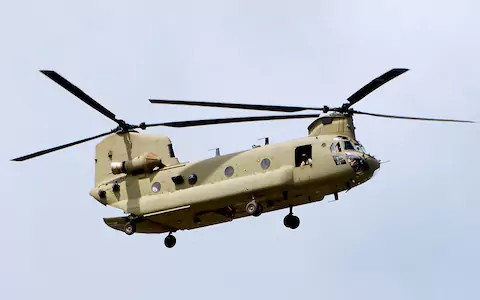chinook: (54, 94, 399, 247)
